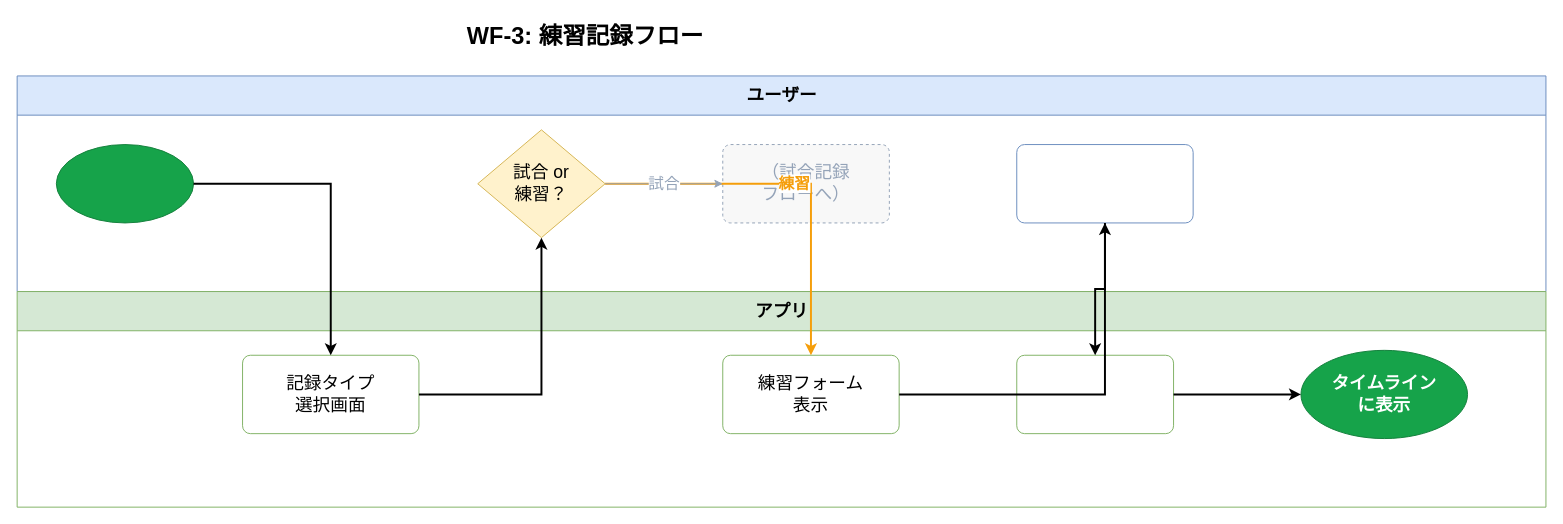
Image size: 1563x524. Some labels were removed from this diagram. Each missing label, with the centre of its shape:
タイプ・時間 メモ入力: the point at 1104,183
記録保存: the point at 1095,394
＋ボタン タップ: the point at 124,183
